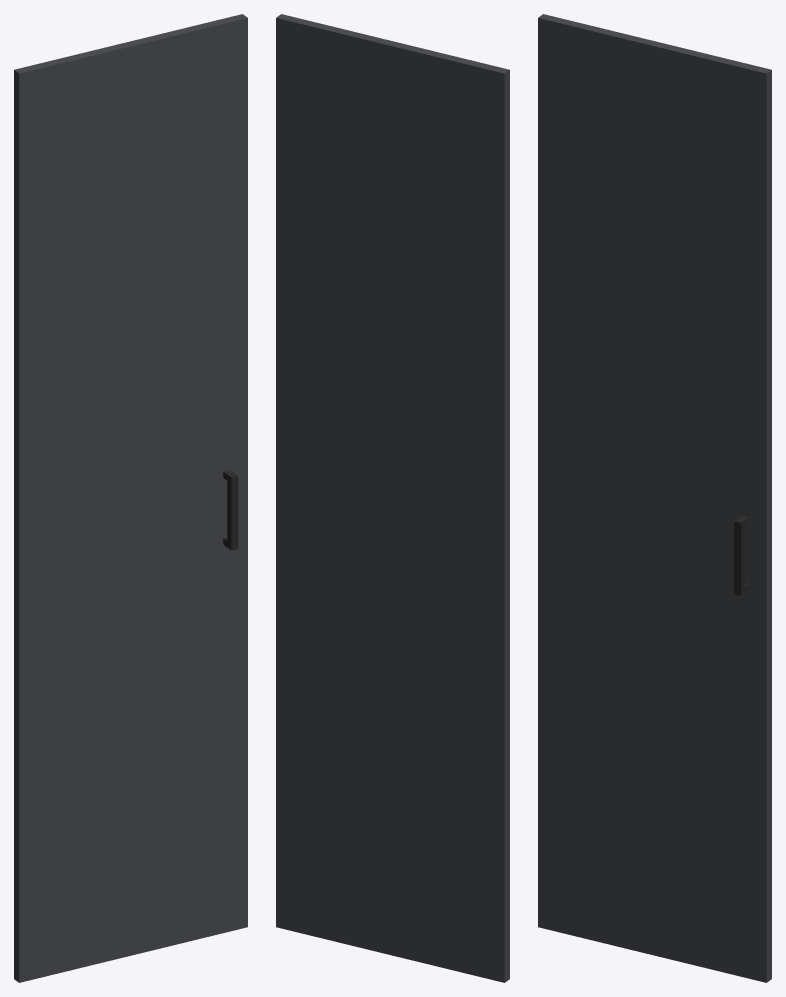
File: Wardrobe1_C2_03.fbx
3 renders of one model, left to right at view 1: azimuth 30°, elevation 25°; view 2: azimuth 150°, elevation 25°; view 3: azimuth 330°, elevation 25°, orthographic.
Visible parts, largest first — view 1: Wardrobe1_C2_03; view 2: Wardrobe1_C2_03; view 3: Wardrobe1_C2_03.
Part boxes in pixels (bbox=[...]): Wardrobe1_C2_03: bbox=[14, 14, 247, 982]; Wardrobe1_C2_03: bbox=[276, 14, 509, 982]; Wardrobe1_C2_03: bbox=[538, 14, 771, 982].
Bounding box in the file's own units: 50 × 190 × 5.02.
